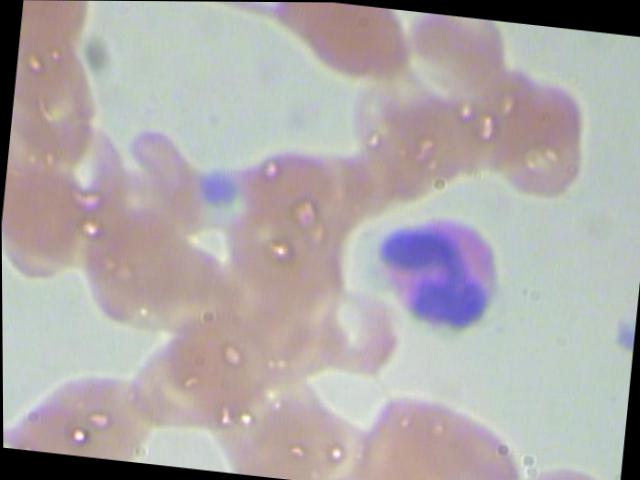Platelets: (193, 167, 247, 208), (602, 315, 635, 358)
Red Blood Cells: (78, 198, 202, 338), (357, 384, 533, 479), (6, 49, 114, 185), (1, 154, 105, 291), (495, 64, 595, 202), (261, 2, 418, 88), (55, 358, 165, 463), (230, 141, 348, 237), (175, 303, 280, 409), (396, 11, 514, 105), (297, 282, 402, 387), (116, 327, 221, 432), (17, 0, 105, 79)
White Blood Cells: (355, 199, 529, 343)
